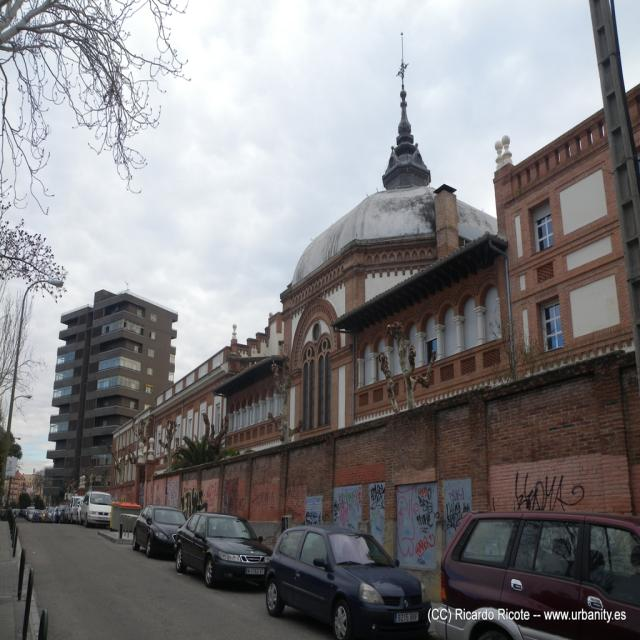car: (424, 507, 639, 634), (262, 516, 433, 638), (168, 506, 270, 588), (130, 499, 188, 565)
